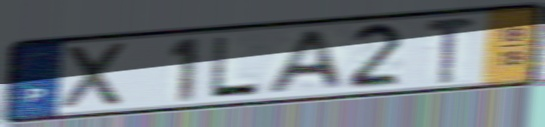1: (166, 34, 203, 105)
2: (346, 20, 409, 92)
A: (260, 28, 349, 96)
L: (206, 34, 264, 100)
T: (423, 16, 479, 86)
X: (61, 39, 133, 113)
